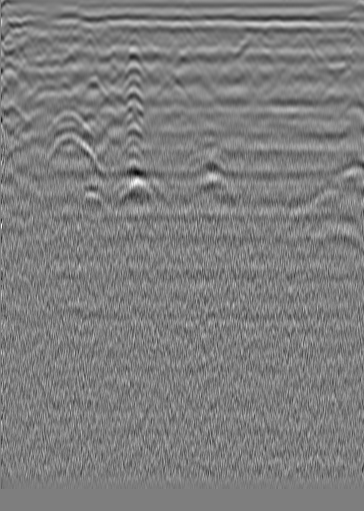가스: (117, 172, 153, 199)
상수: (311, 28, 331, 48)
오수: (18, 25, 38, 45)
우수: (181, 28, 201, 48)
